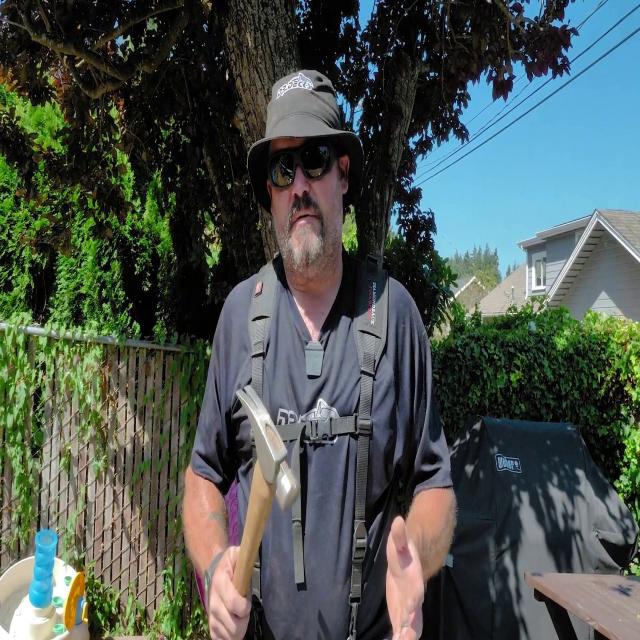hammer: (231, 384, 300, 596)
